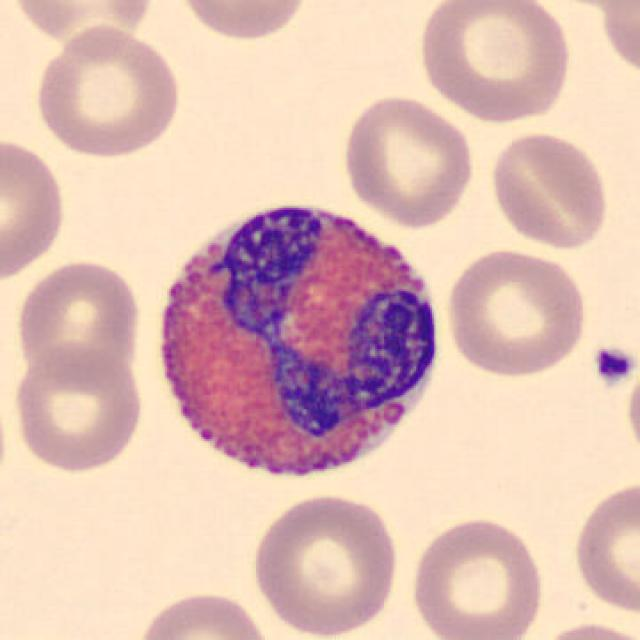Eosinophil: (139, 178, 453, 504)
Platelets: (588, 340, 638, 390)
RBC: (247, 488, 404, 638), (30, 23, 183, 160), (441, 245, 592, 379), (414, 0, 576, 123), (338, 92, 478, 229), (7, 342, 148, 476), (406, 513, 548, 640), (12, 256, 146, 386), (486, 127, 614, 252), (0, 132, 69, 285), (569, 476, 638, 617), (132, 587, 278, 640), (5, 0, 160, 46), (169, 0, 315, 44), (596, 0, 638, 83), (528, 619, 640, 640), (624, 348, 640, 472), (531, 0, 640, 14)
